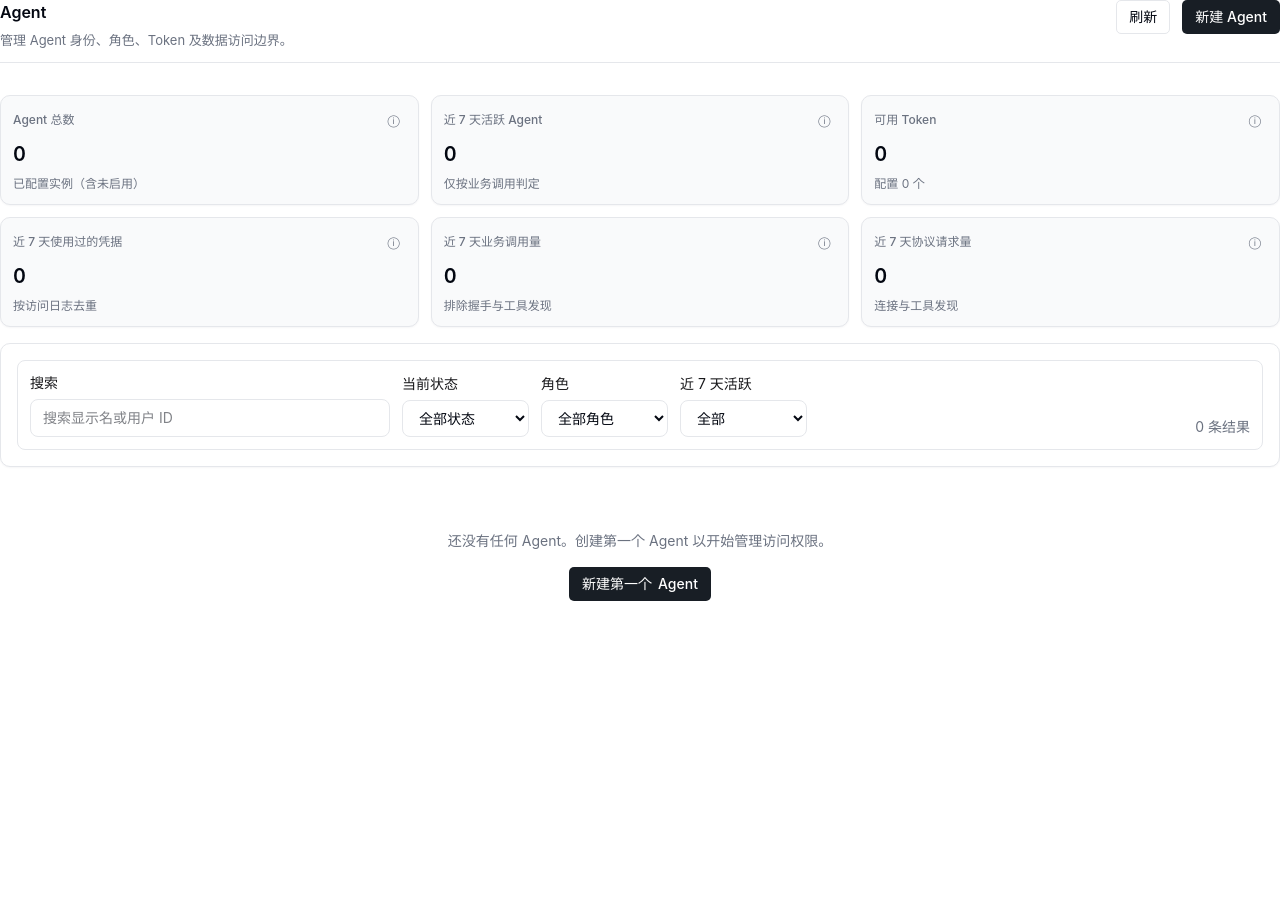
Test: AgentList › new agent modal shows role summary card with source count, connections, tools and warnings
Click the button "新建 Agent" at (1231, 17), box x1=1182 y1=0 x2=1279 y2=34
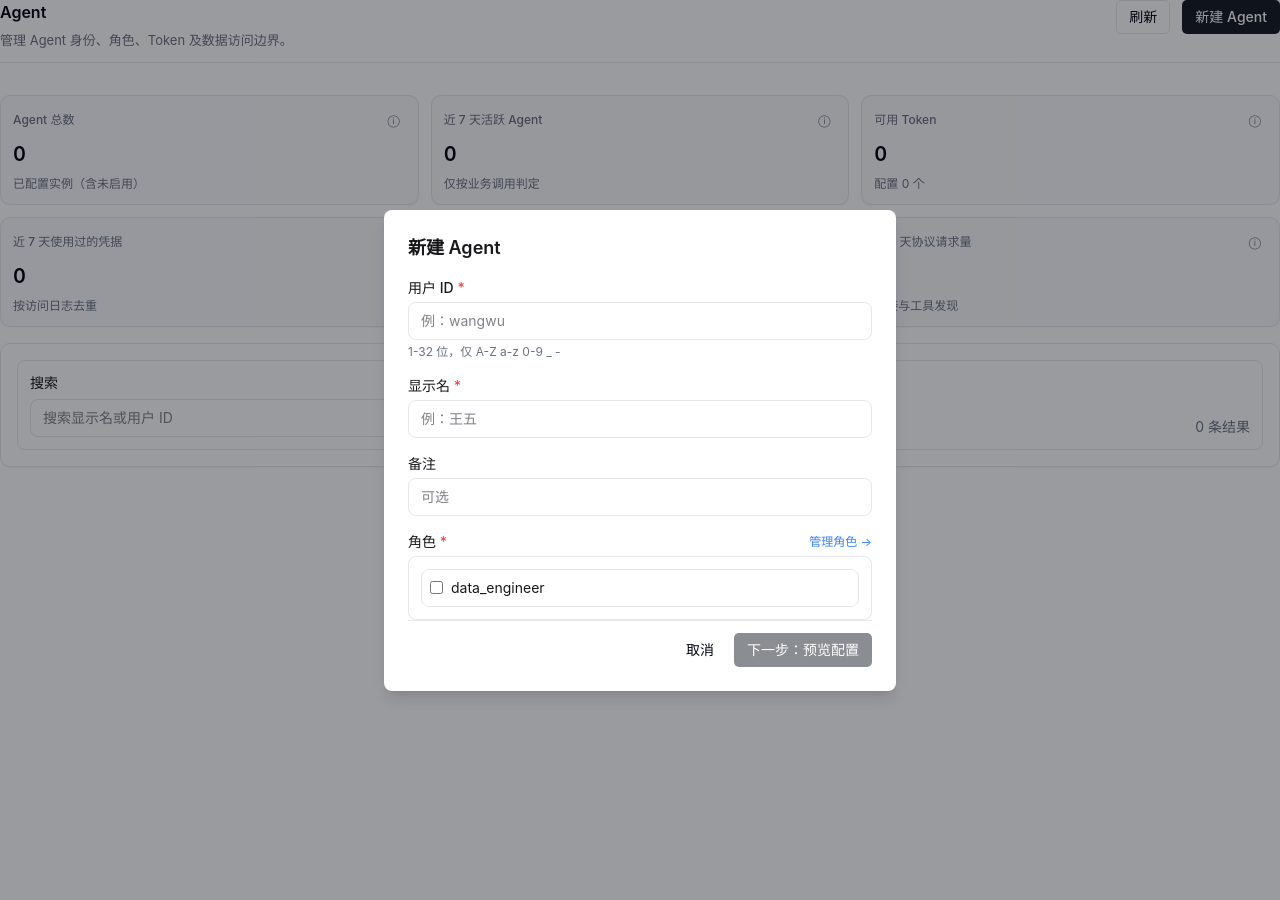
Type "newagent1" into the field with placeholder "例：wangwu" at (640, 320), box x1=408 y1=302 x2=872 y2=340
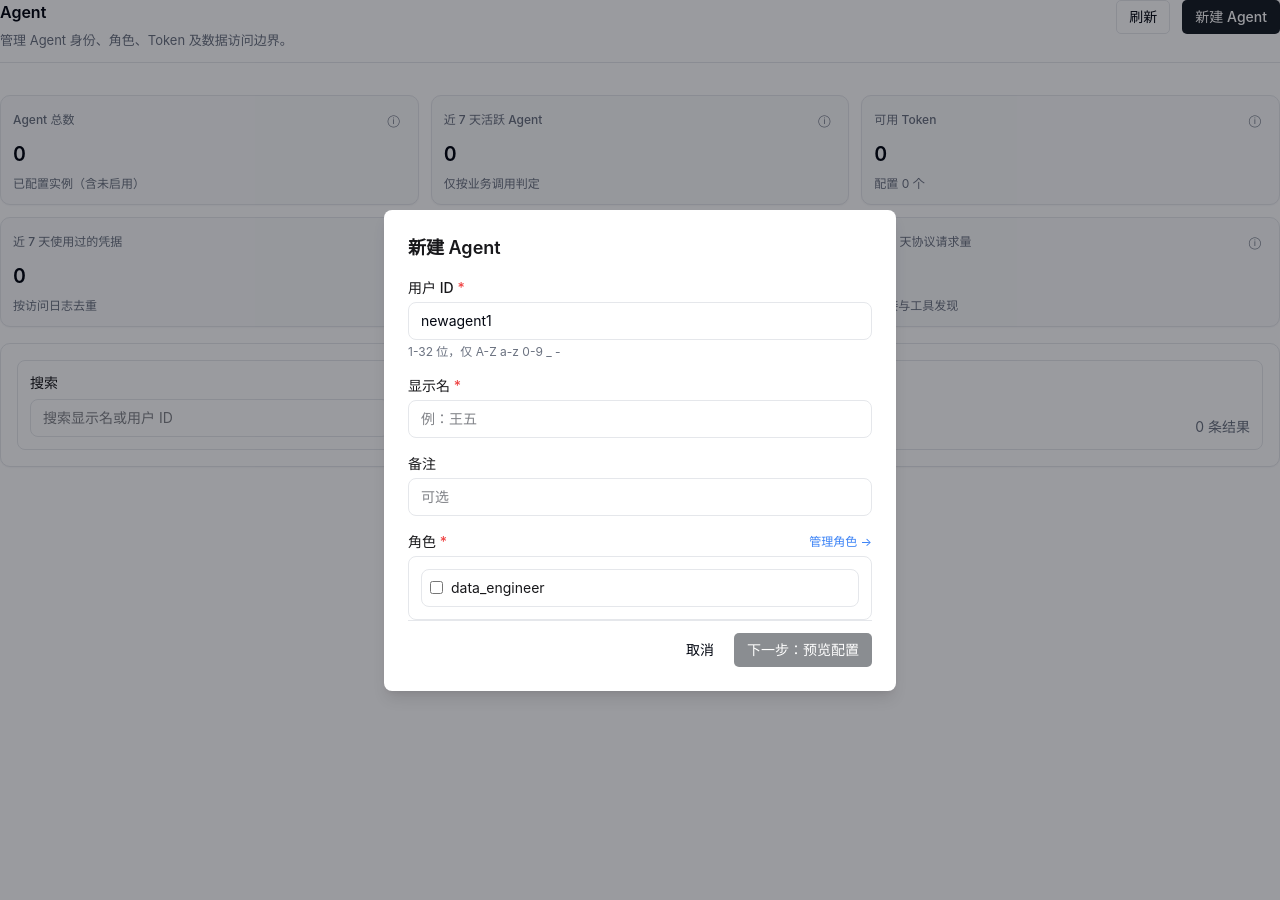
Type "新人" into the field with placeholder "例：王五" at (640, 418), box x1=408 y1=400 x2=872 y2=438
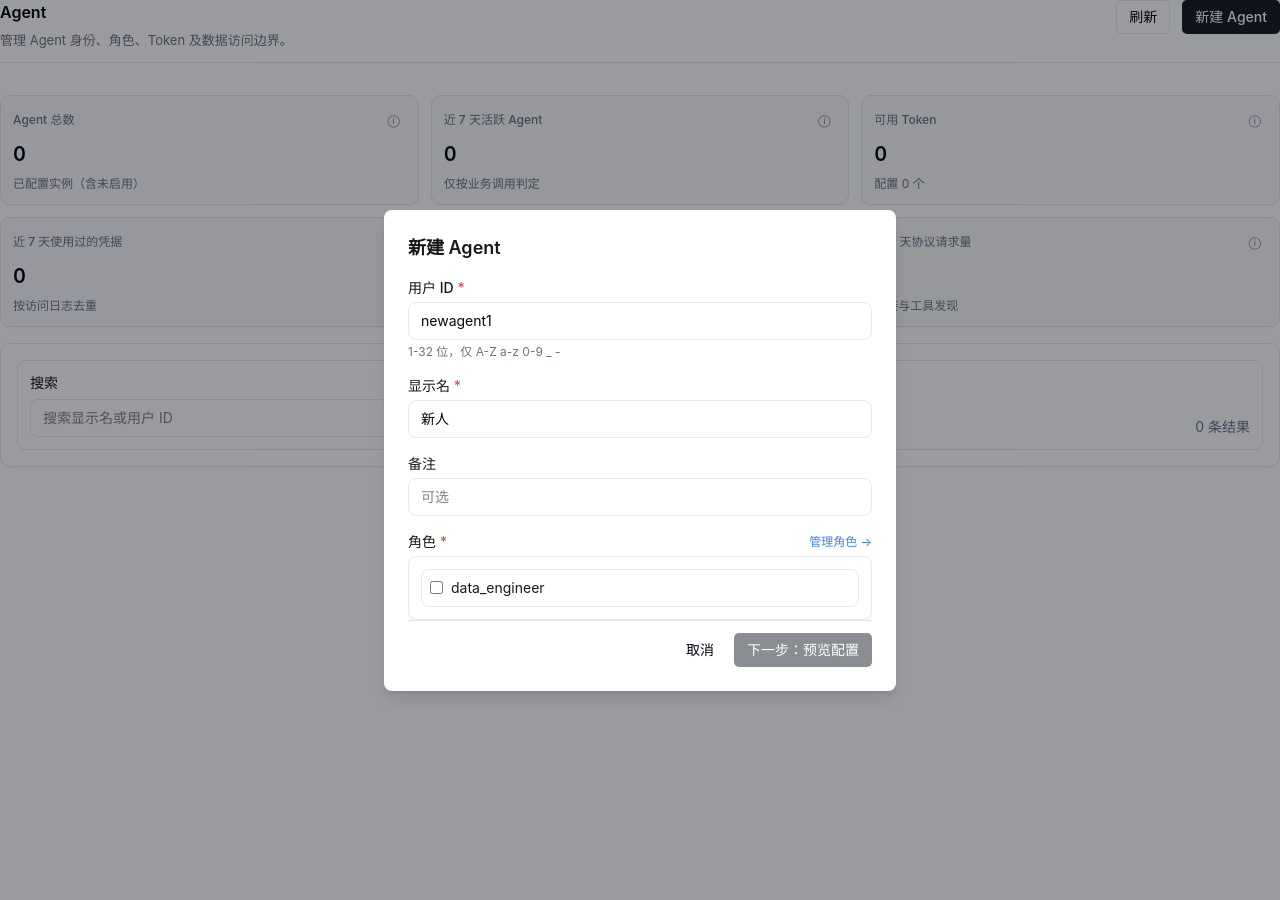
Click the checkbox labelled "data_engineer" at (436, 588), box x1=430 y1=581 x2=443 y2=594
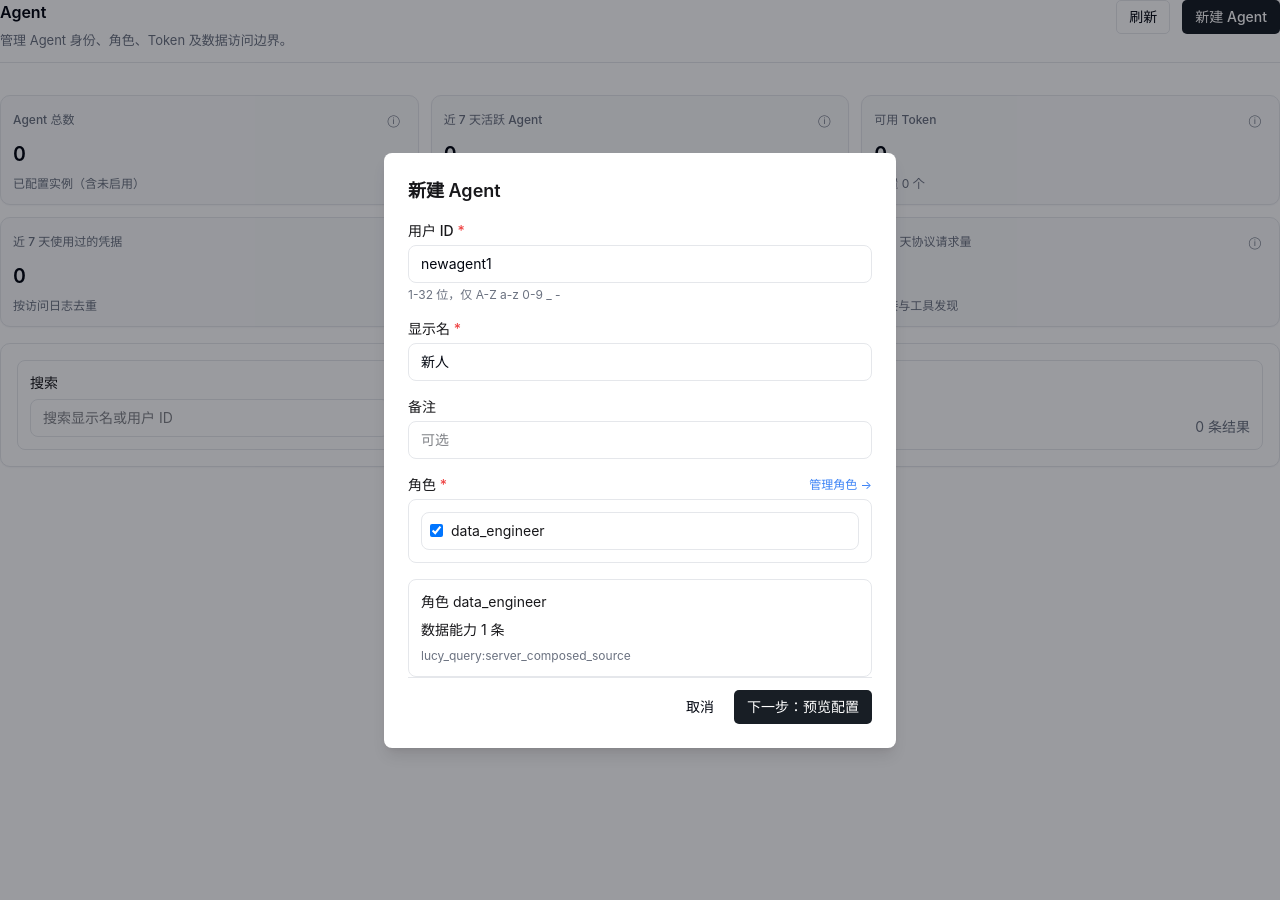
Now the button "下一步：预览配置" is shown, box x1=734 y1=690 x2=872 y2=724
Now the element with test id "agent-role-capability" shows "server_composed_source", box x1=485 y1=648 x2=631 y2=662
Now the element with test id "agent-role-capability" shows "data_engineer", box x1=453 y1=592 x2=546 y2=610
